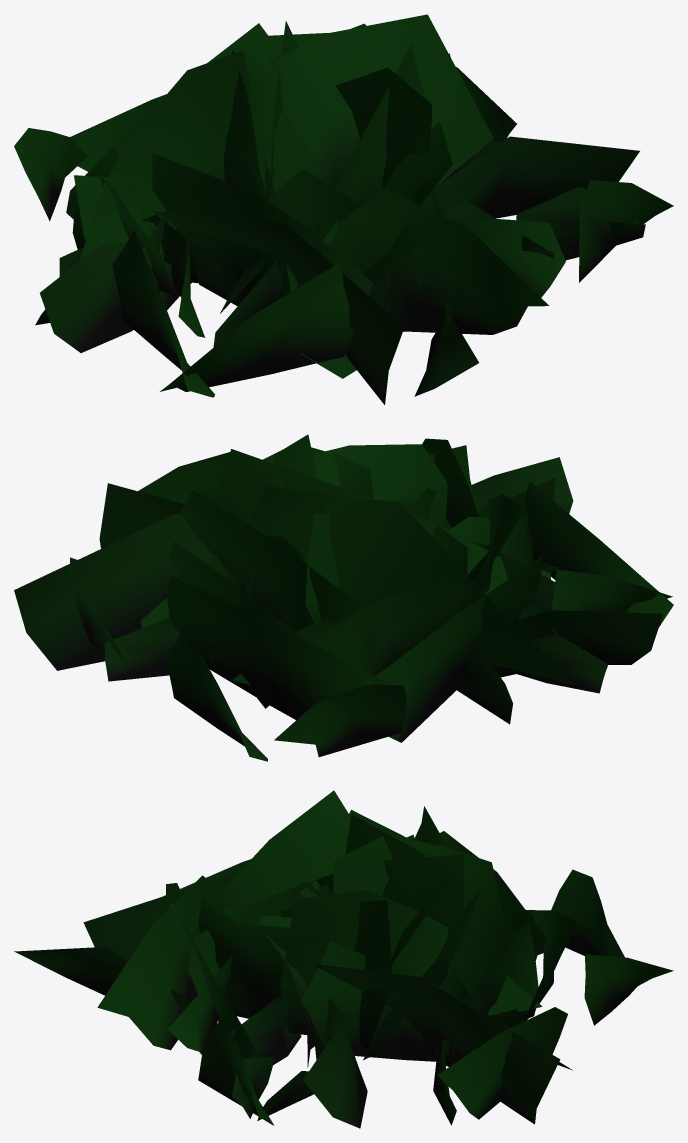
The model's file is GrassBig_B.fbx.
3 views of the same model, one above another, from view 1: azimuth 30°, elevation 25°; view 2: azimuth 150°, elevation 25°; view 3: azimuth 270°, elevation 25° (orthographic). The views are drawn at different scales.
Parts seen in each view (by area): view 1: GrassBig_B_LOD0; view 2: GrassBig_B_LOD0; view 3: GrassBig_B_LOD0.
Boxes of the visible parts, <box> form: GrassBig_B_LOD0: <box>14,14,673,404</box>; GrassBig_B_LOD0: <box>14,434,673,761</box>; GrassBig_B_LOD0: <box>14,790,673,1128</box>.
Size of what is drawn, in the model's own units: 4.56 by 1.59 by 4.86.
